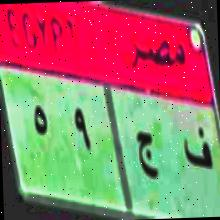5: (29, 100, 53, 144)
9: (73, 101, 92, 159)
faa: (183, 122, 214, 178)
jeem: (134, 124, 160, 187)
